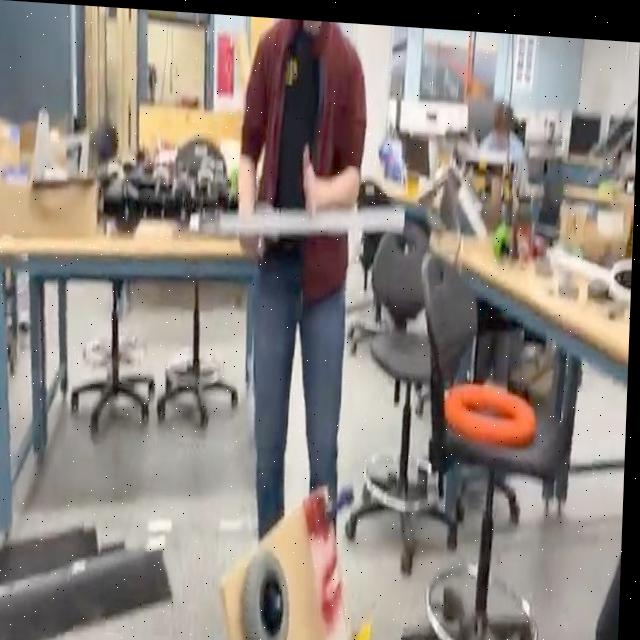note: (443, 369, 543, 447)
